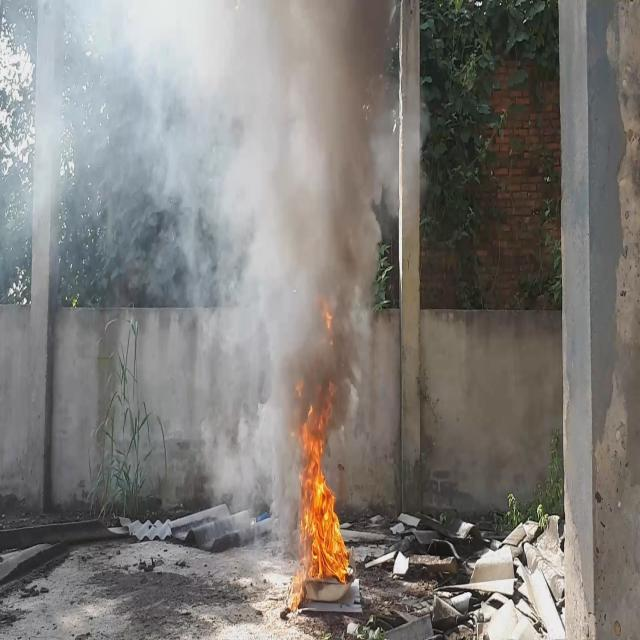Fire: (282, 378, 351, 618)
Smoke: (0, 0, 430, 513)
